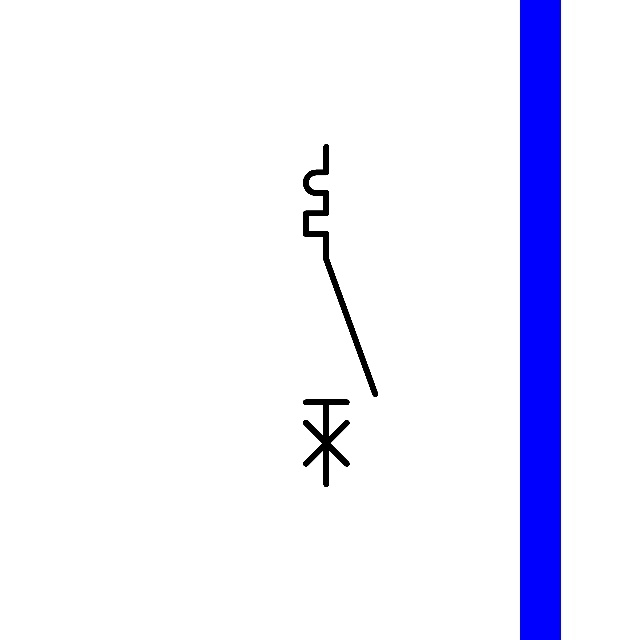interruptor_termomagnetico: (297, 138, 384, 493)
